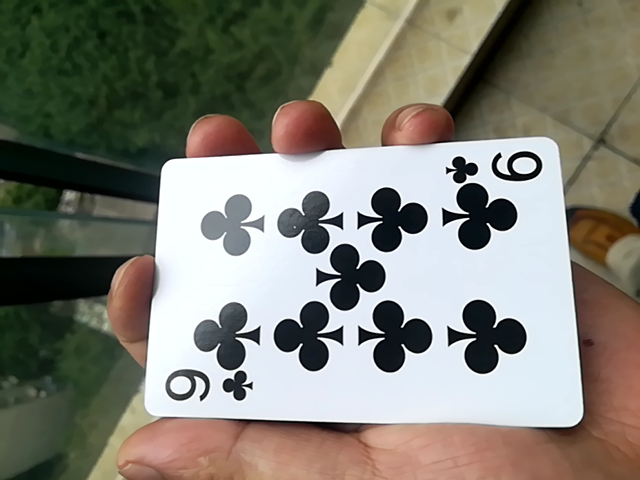mh 9: (132, 138, 584, 436)
